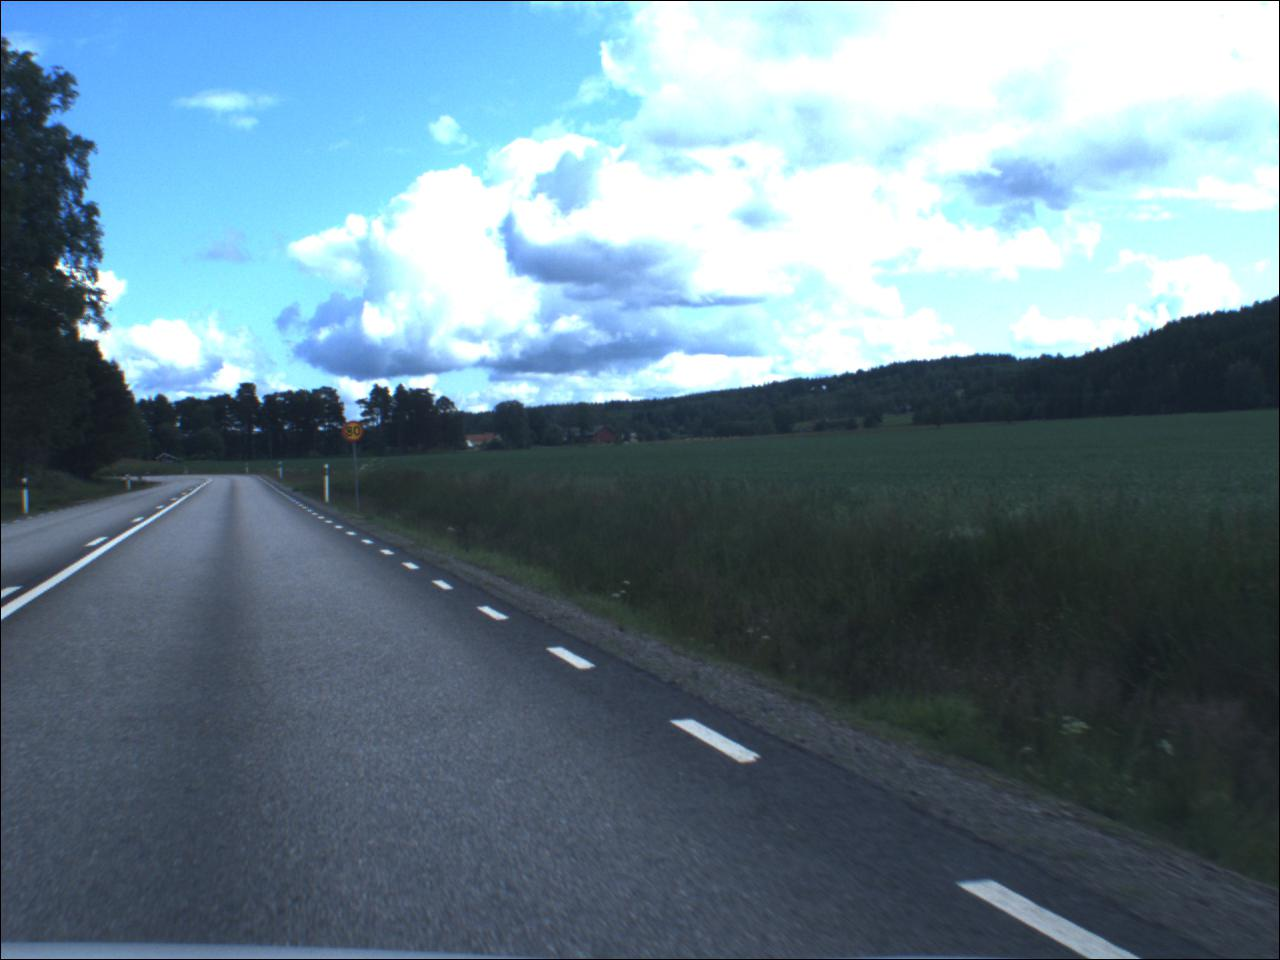80_SIGN: (344, 421, 368, 445)
